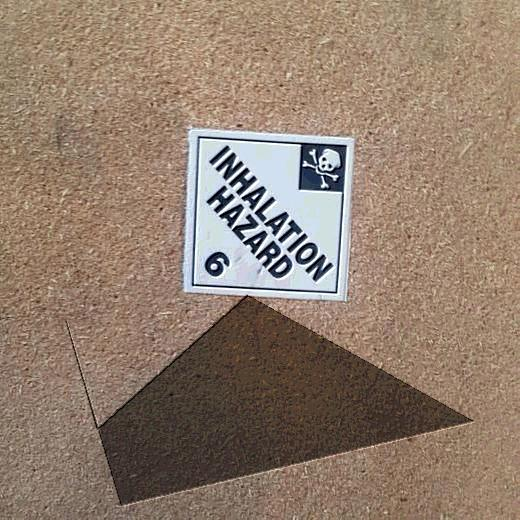poison: (182, 126, 356, 304)
